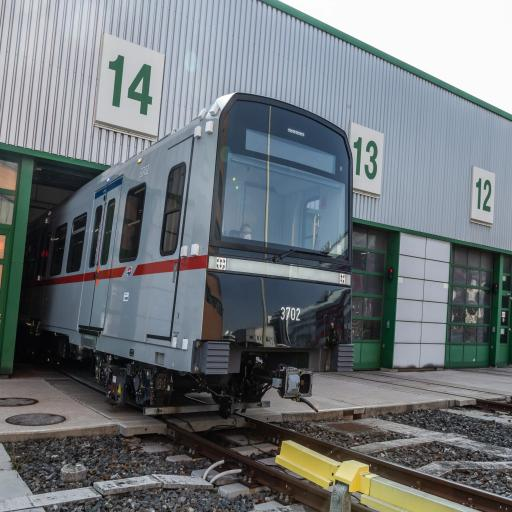X-Wagen: (19, 91, 357, 375)
